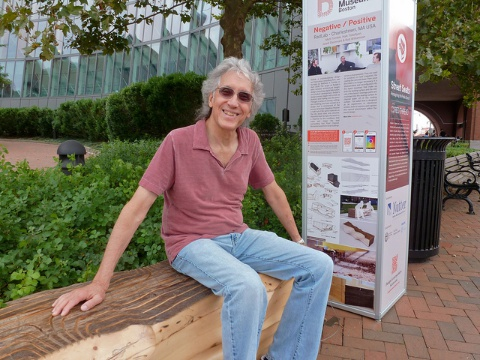hand: (51, 285, 110, 319)
